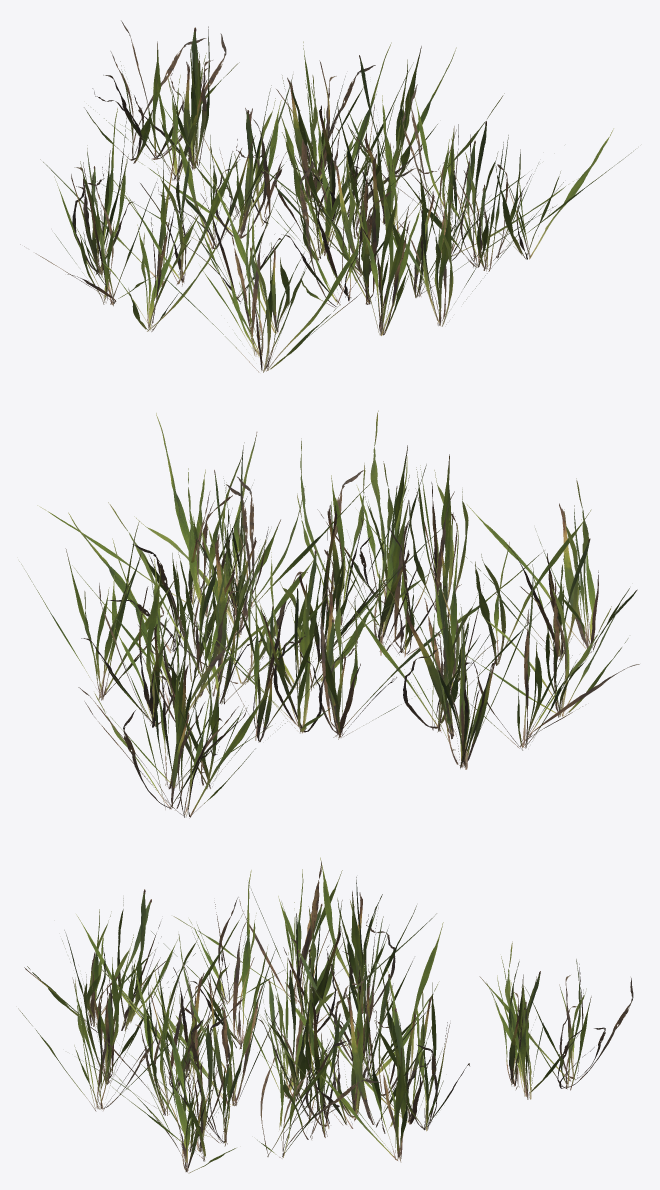
File: grass_1_3.FBX
3 views of the same model, one above another, from view 1: azimuth 30°, elevation 25°; view 2: azimuth 150°, elevation 25°; view 3: azimuth 270°, elevation 25° (orthographic). The views are drawn at different scales.
Visible parts, largest first — view 1: grass_1_03; view 2: grass_1_03; view 3: grass_1_03.
Part boxes in pixels (x1=…): grass_1_03: x1=20, y1=20, x2=635, y2=372; grass_1_03: x1=19, y1=410, x2=639, y2=818; grass_1_03: x1=18, y1=857, x2=633, y2=1173.
Size of the model in its own units: 77.62 by 21.02 by 78.24.
1 material, 1 textured.
